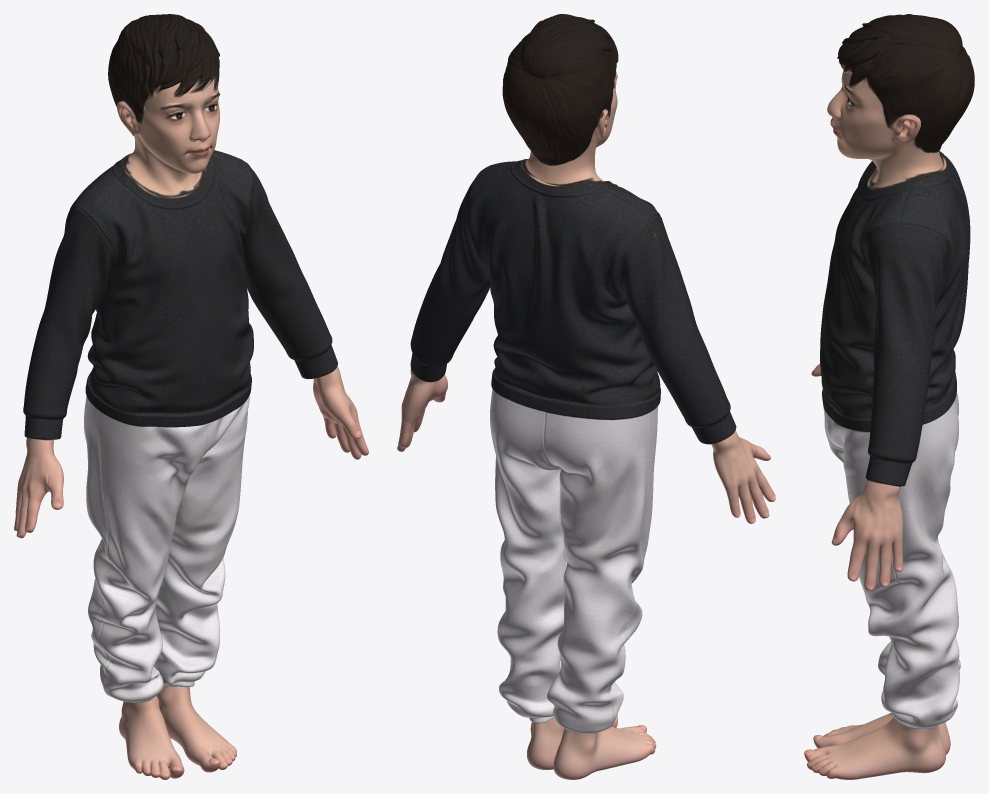
The model's file is shalev-alone.glb.
The picture shows the model from 3 angles, left to right: view 1: azimuth 30°, elevation 25°; view 2: azimuth 150°, elevation 25°; view 3: azimuth 270°, elevation 25°; orthographic projection. The views are drawn at different scales.
Size of the model in its own units: 0.9665 by 1.9 by 0.3921.
1 material, 1 textured.
